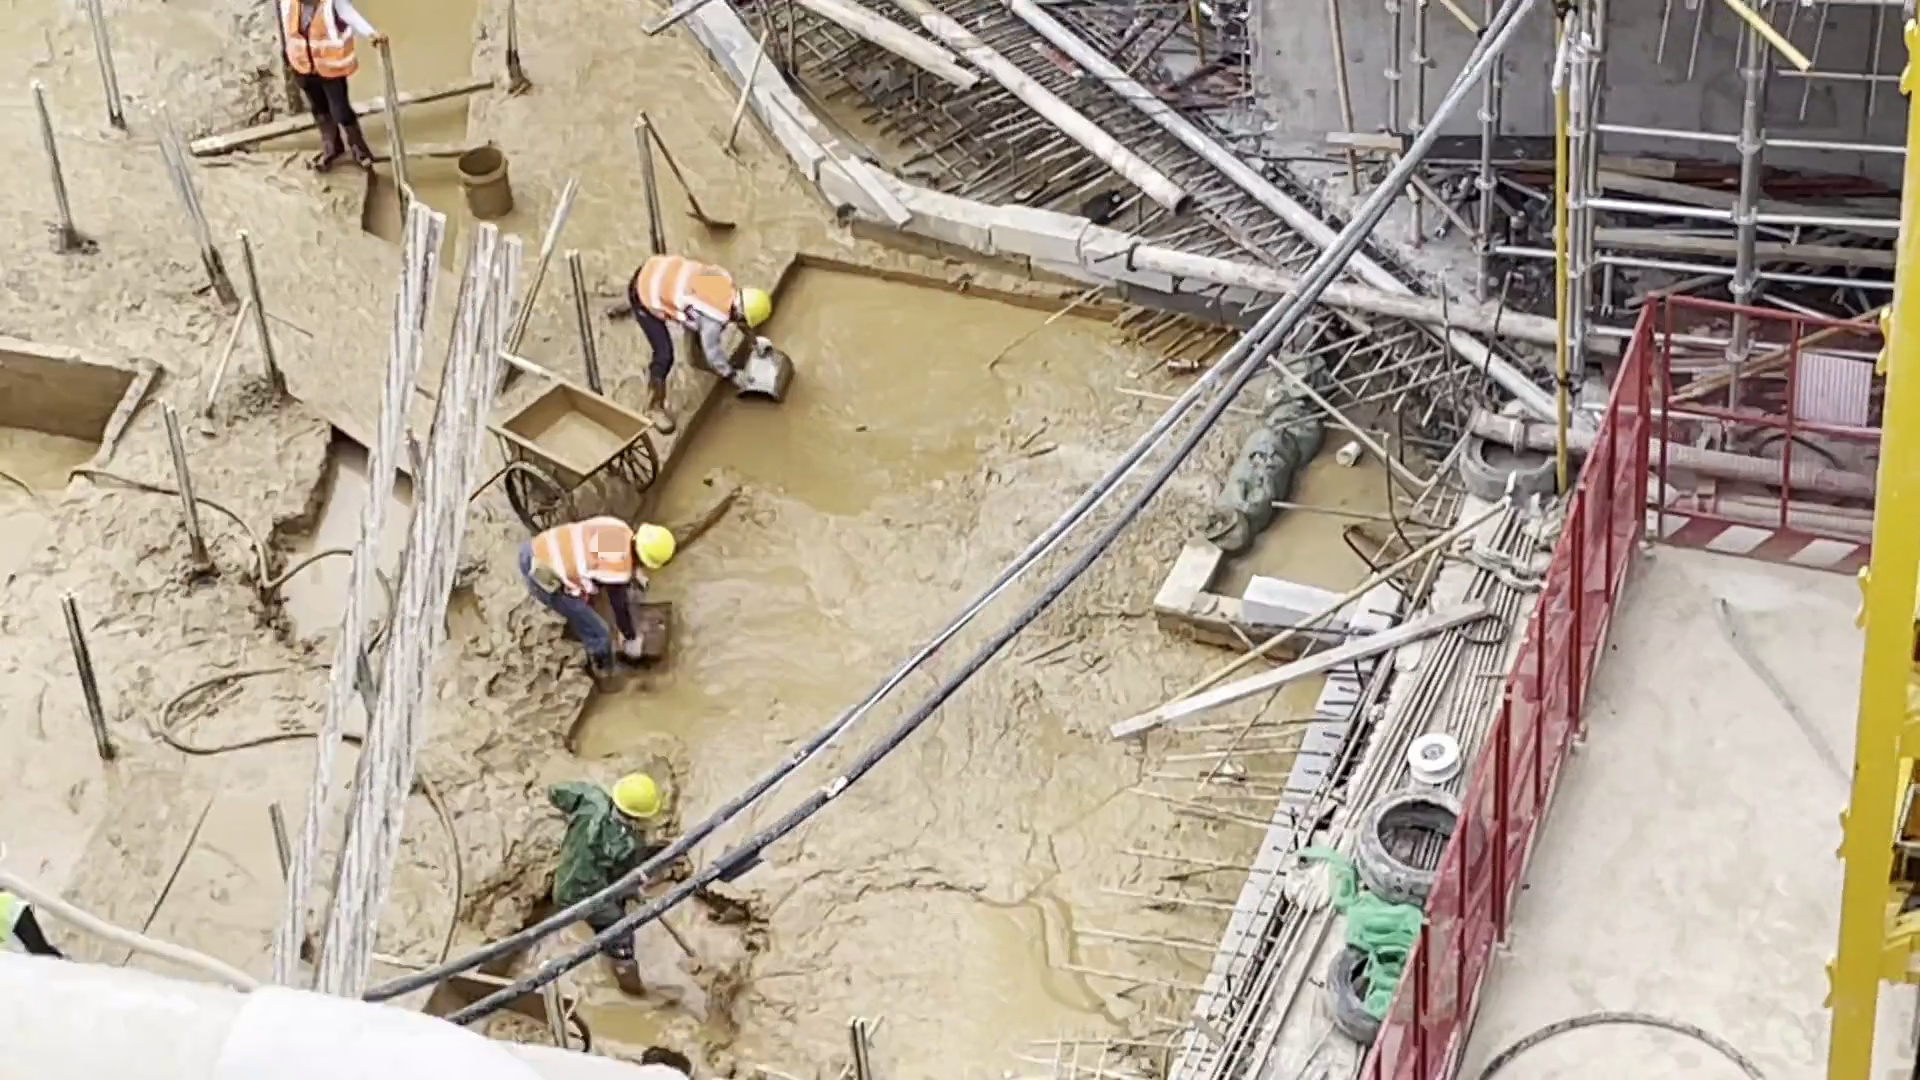helmet: (614, 775, 664, 819), (637, 519, 678, 569), (744, 279, 774, 338)
person: (530, 764, 670, 1000), (619, 252, 776, 428), (515, 515, 675, 679), (272, 1, 381, 174)
vest: (626, 248, 738, 327), (522, 516, 634, 585), (281, 1, 359, 78)
